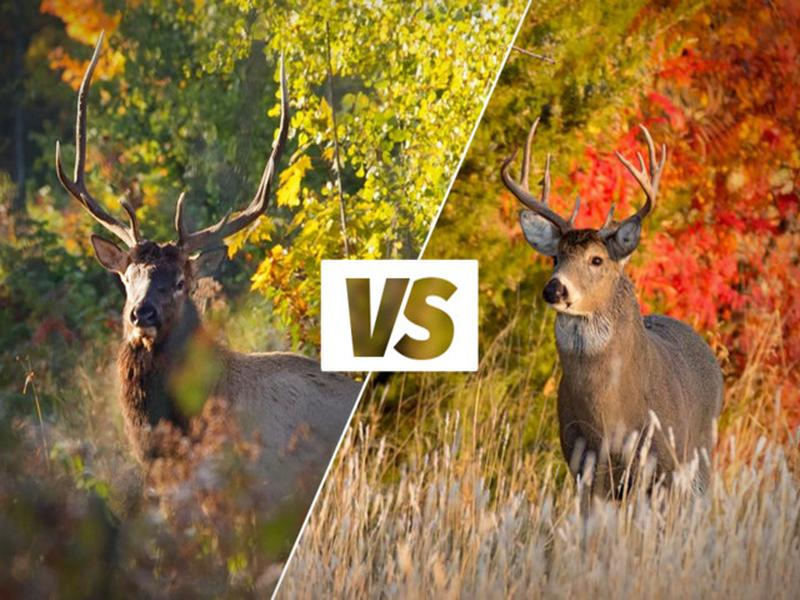elk: (47, 64, 366, 526), (495, 131, 729, 541)
